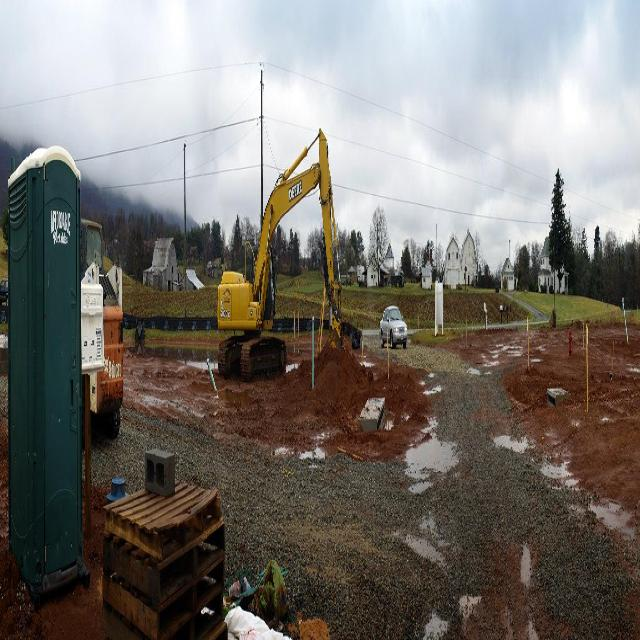Boca de incendio: (568, 328, 573, 354)
Excavadora: (217, 122, 363, 387)
camion: (0, 275, 8, 308)
pala cargadora: (78, 219, 124, 445)
sedan: (379, 304, 407, 348)
